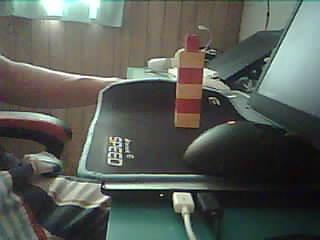lego: (174, 32, 205, 129)
